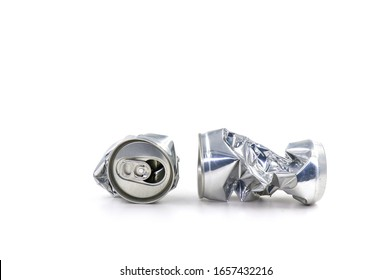can: (195, 127, 328, 207), (91, 132, 182, 206)
